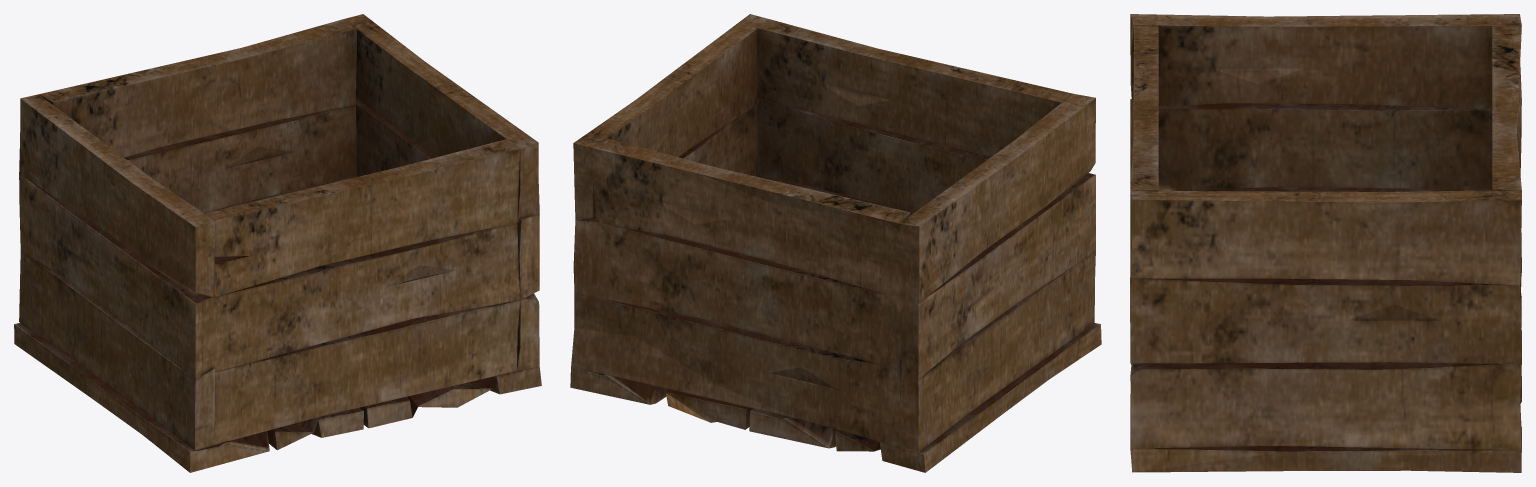
The model's file is caixote.fbx.
3 renders of one model, left to right at view 1: azimuth 30°, elevation 25°; view 2: azimuth 150°, elevation 25°; view 3: azimuth 270°, elevation 25°, orthographic. The views are drawn at different scales.
Visible parts, largest first — view 1: Cube.001; view 2: Cube.001; view 3: Cube.001.
Boxes of the visible parts, <box> form: Cube.001: <box>14,14,541,472</box>; Cube.001: <box>570,14,1101,472</box>; Cube.001: <box>1130,14,1521,472</box>.
Bounding box in the file's own units: 42.99 × 28.57 × 37.27.
